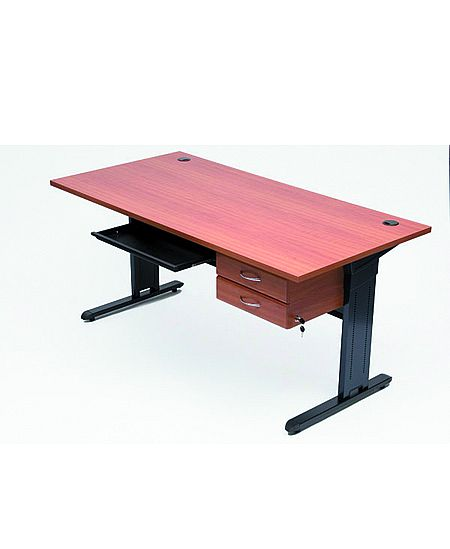Carving Table: (31, 133, 420, 438)
